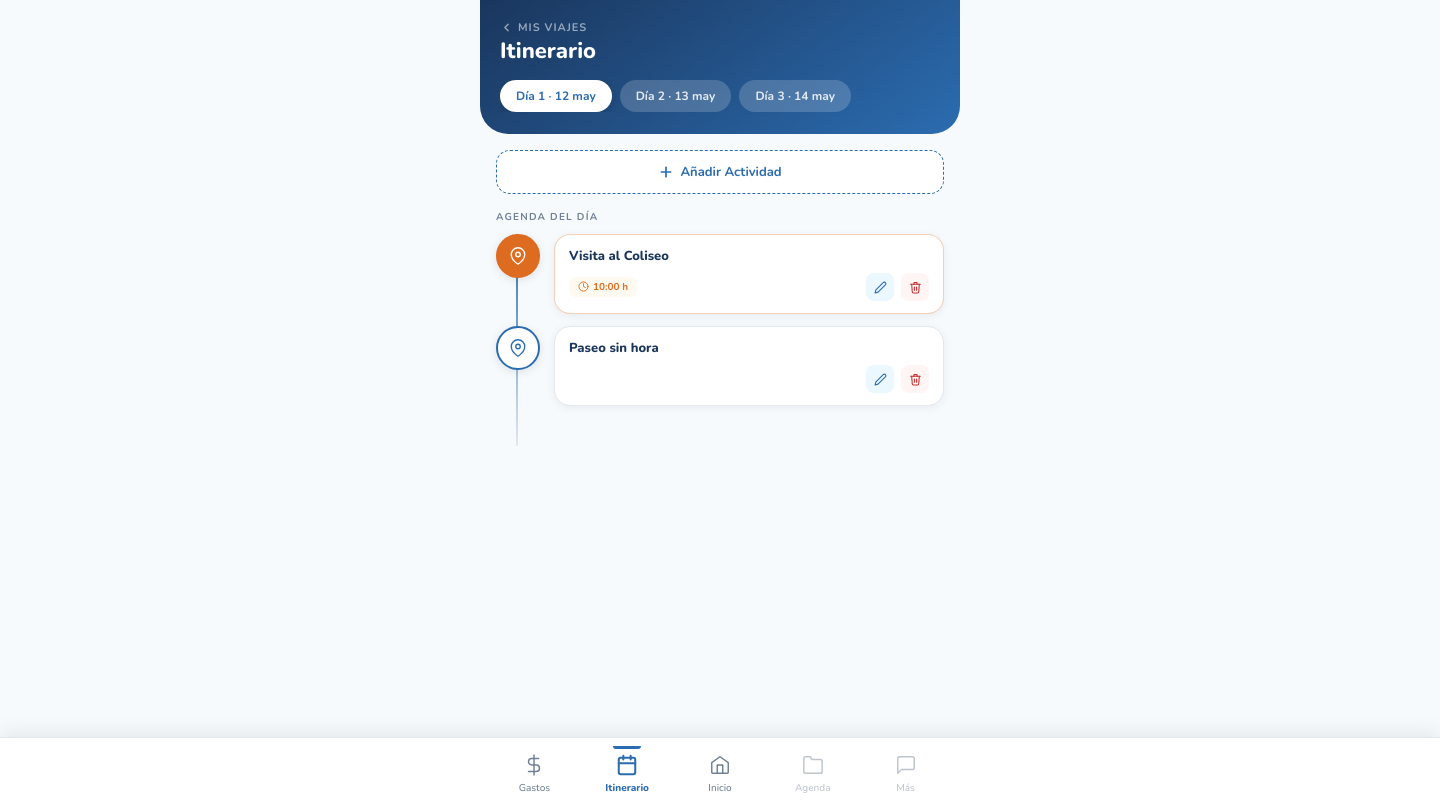
Test: Itinerario · editar y eliminar actividades › confirmar elimina la actividad en el servidor, la quita de la agenda y actualiza lo guardado
Click the button named "Eliminar Visita al Coliseo": (915, 287) [901,273,929,301]
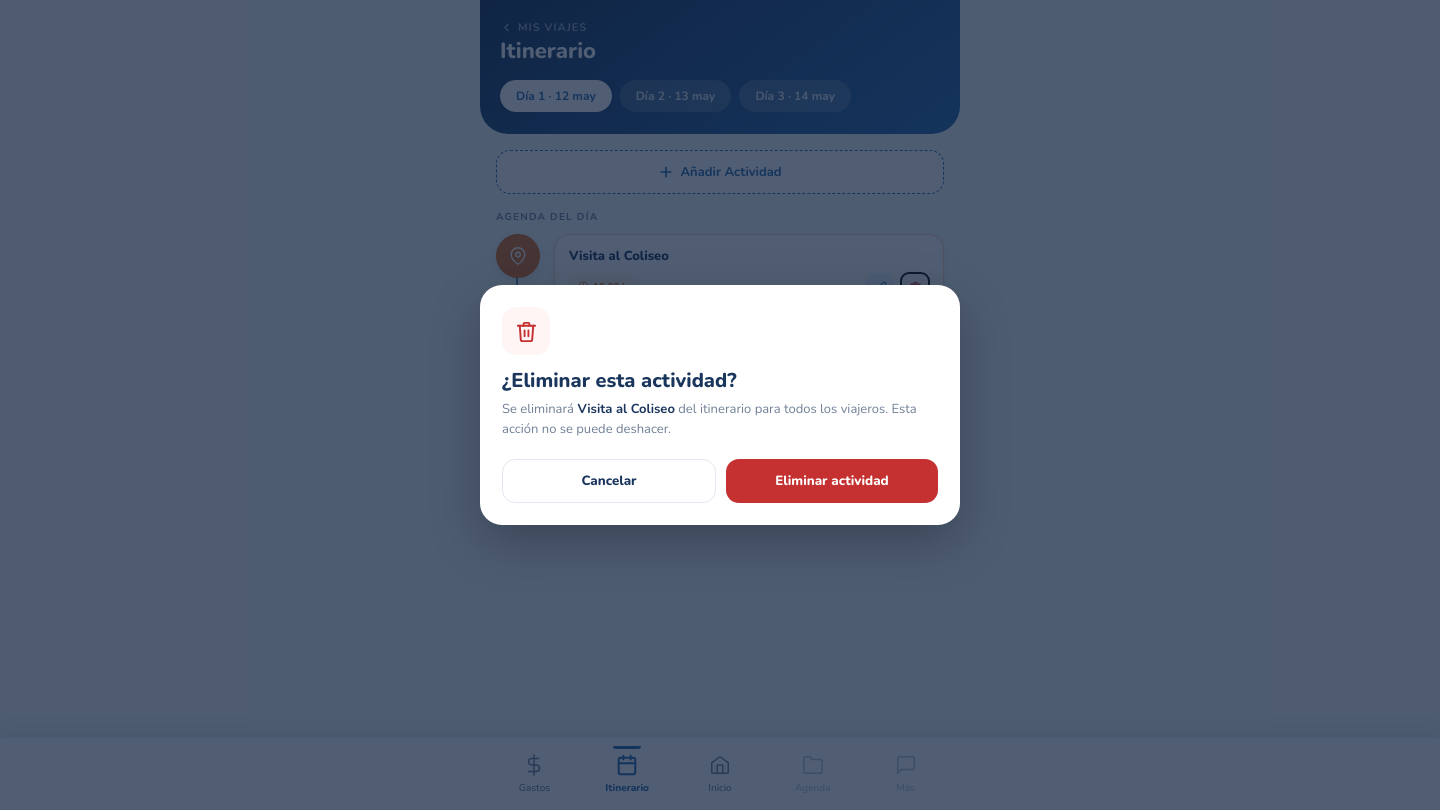
Click the button "Eliminar actividad": (832, 481) [726,459,938,503]
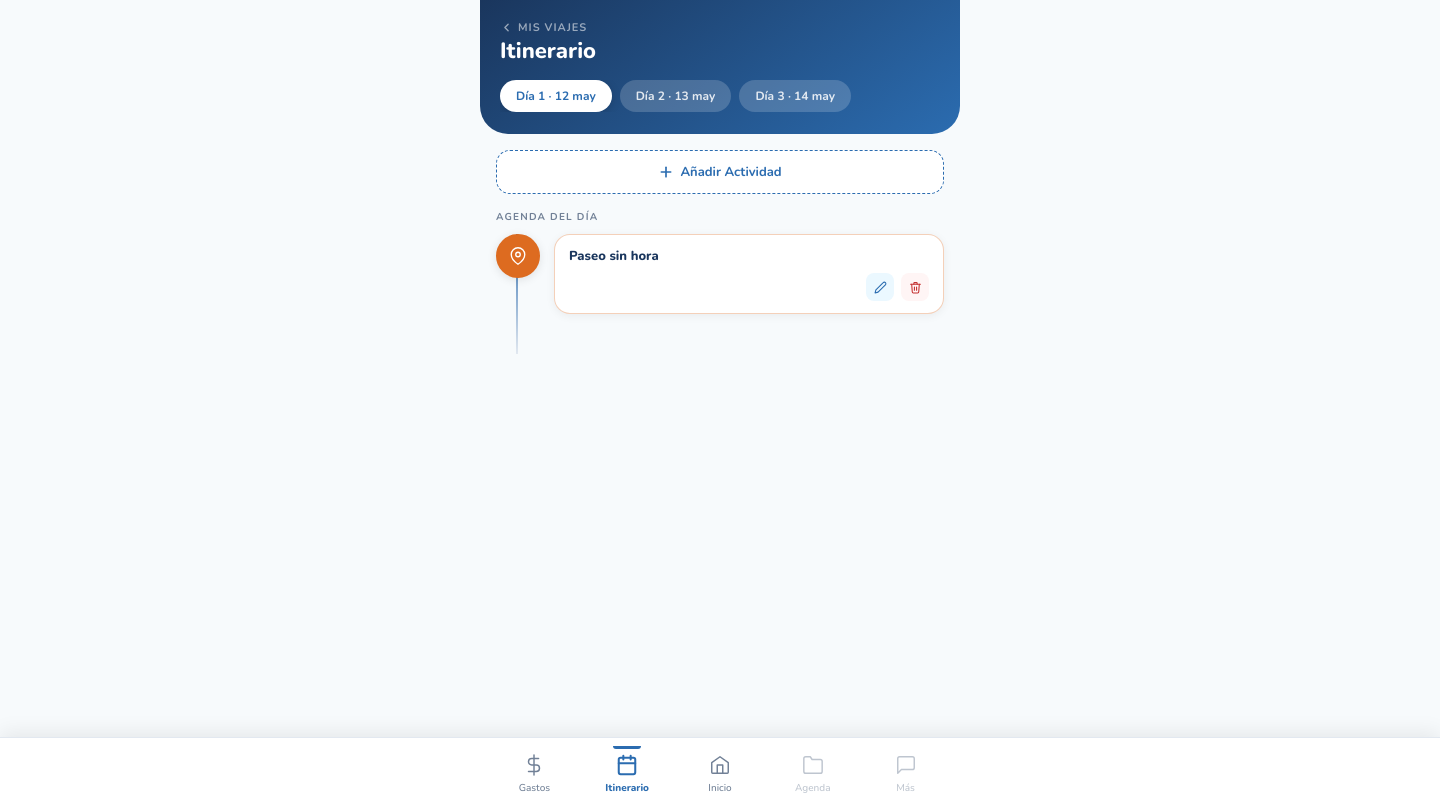
expect the text "Paseo sin hora" is shown: met, box [569,247,659,265]
expect the dialog is gone: met
expect the text "Visita al Coliseo" is gone: met
